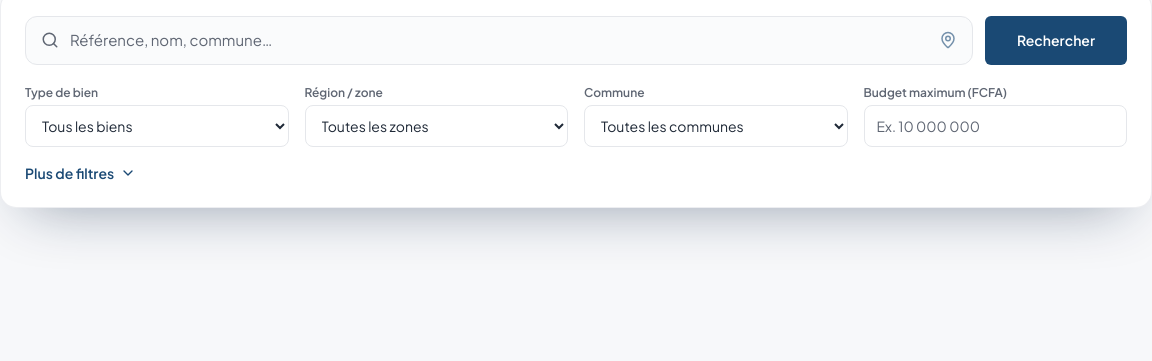
Scenario: TerrainFilters — panneau du catalogue › montre les critères essentiels et range les autres sous « Plus de filtres »
expect the dropdown labelled "Type de bien" is shown: met, box [25,104,288,146]
expect the number field labelled "Budget maximum (FCFA)" is shown: met, box [864,104,1127,146]
Click the button "Plus de filtres".
click(81, 172)  # box [25,162,136,182]
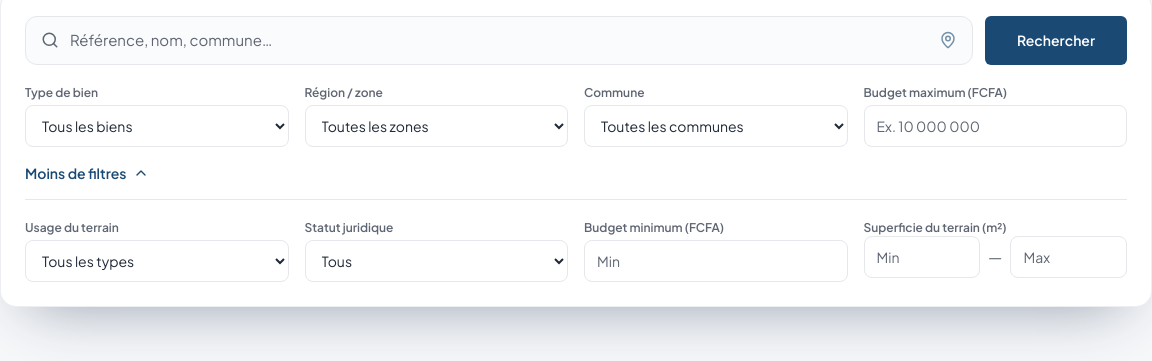
expect the dropdown labelled "Statut juridique" is shown: met, box [304,240,568,282]
expect the number field labelled "Budget minimum (FCFA)" is shown: met, box [584,240,848,282]
